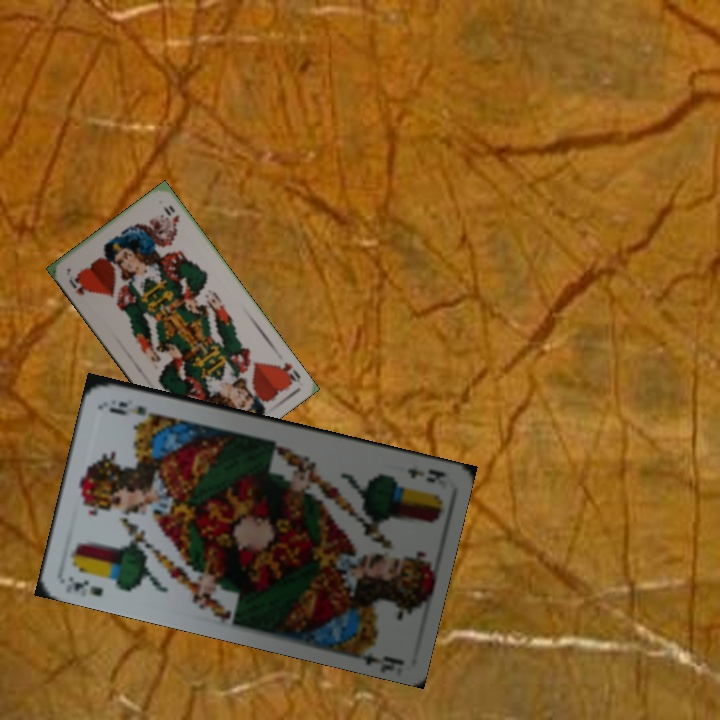EK: (61, 572, 106, 599), (403, 464, 448, 485)
HO: (271, 359, 303, 388), (65, 271, 87, 297)
